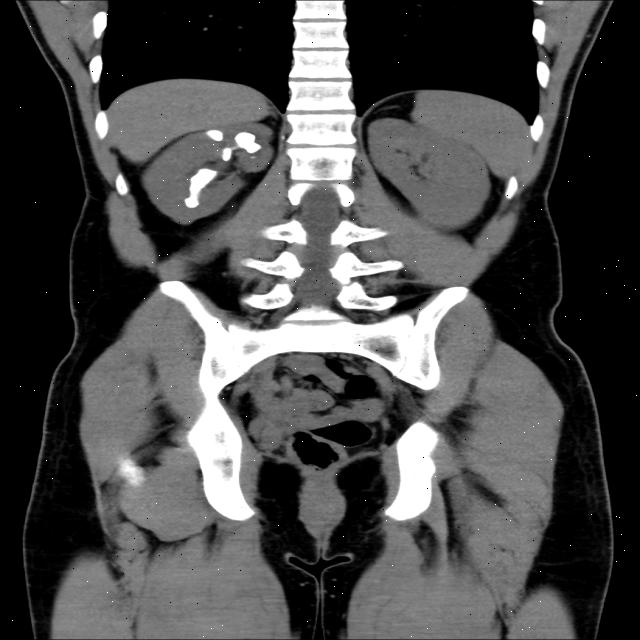kidneystone: (185, 169, 217, 208), (236, 132, 262, 154), (206, 130, 222, 141), (222, 149, 232, 161)
